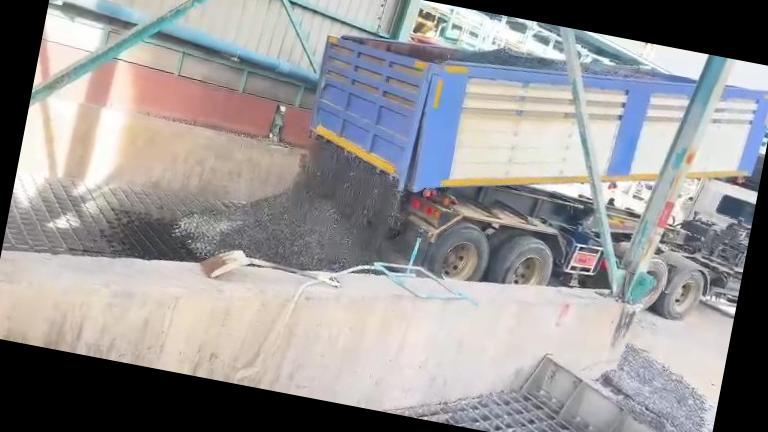gravel: (174, 140, 397, 271), (601, 345, 717, 432), (451, 48, 566, 72), (582, 62, 657, 79)
